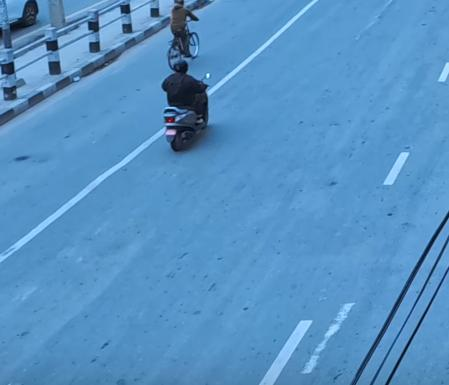scooter: (156, 76, 216, 148)
